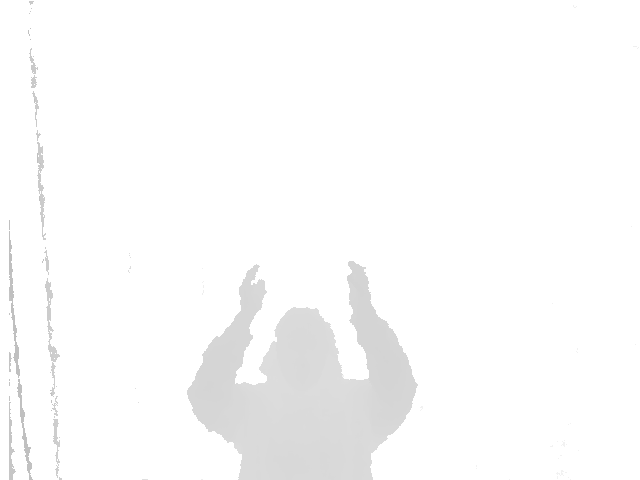hand: (235, 264, 274, 328), (344, 260, 374, 326)
head: (257, 306, 344, 385)
person: (185, 260, 419, 480)
